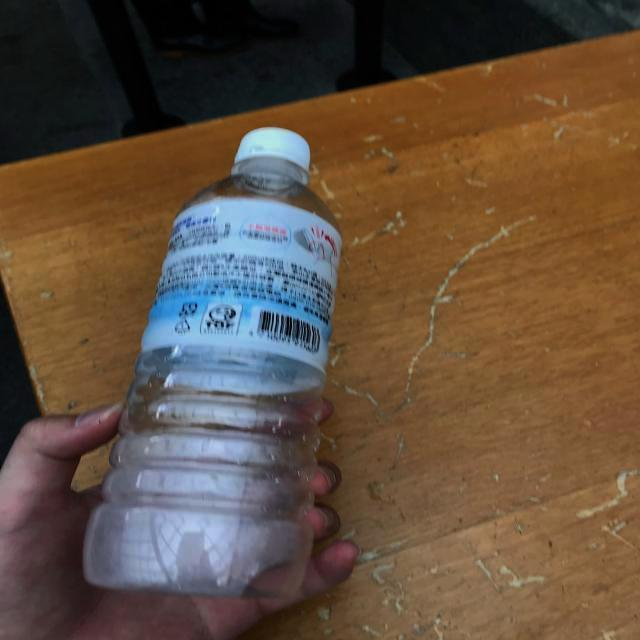bottle: (82, 128, 344, 601)
